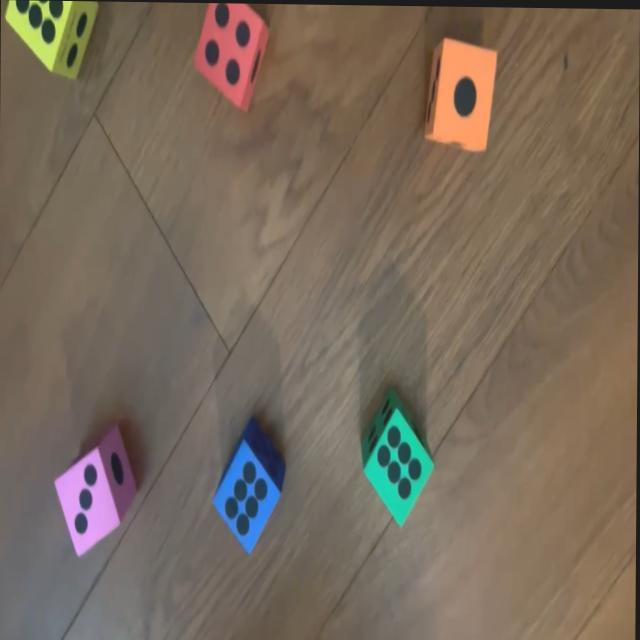blue_block: (212, 416, 283, 557)
red_block: (191, 2, 268, 114)
